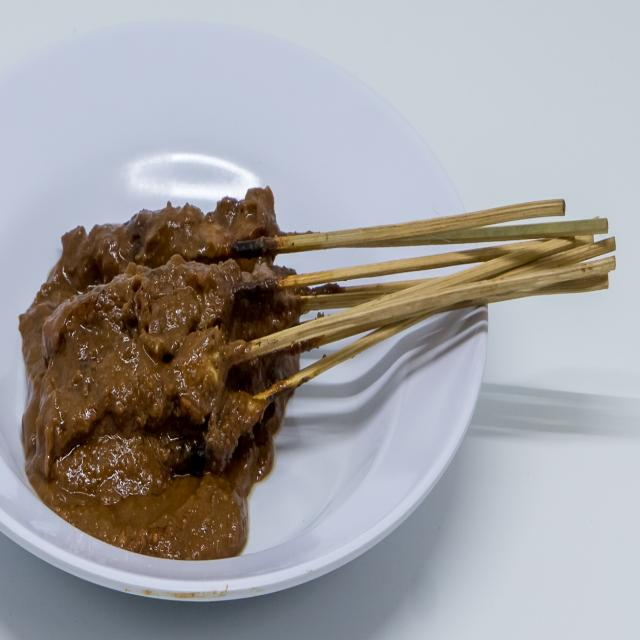Sate-Ayam: (16, 161, 322, 520)
